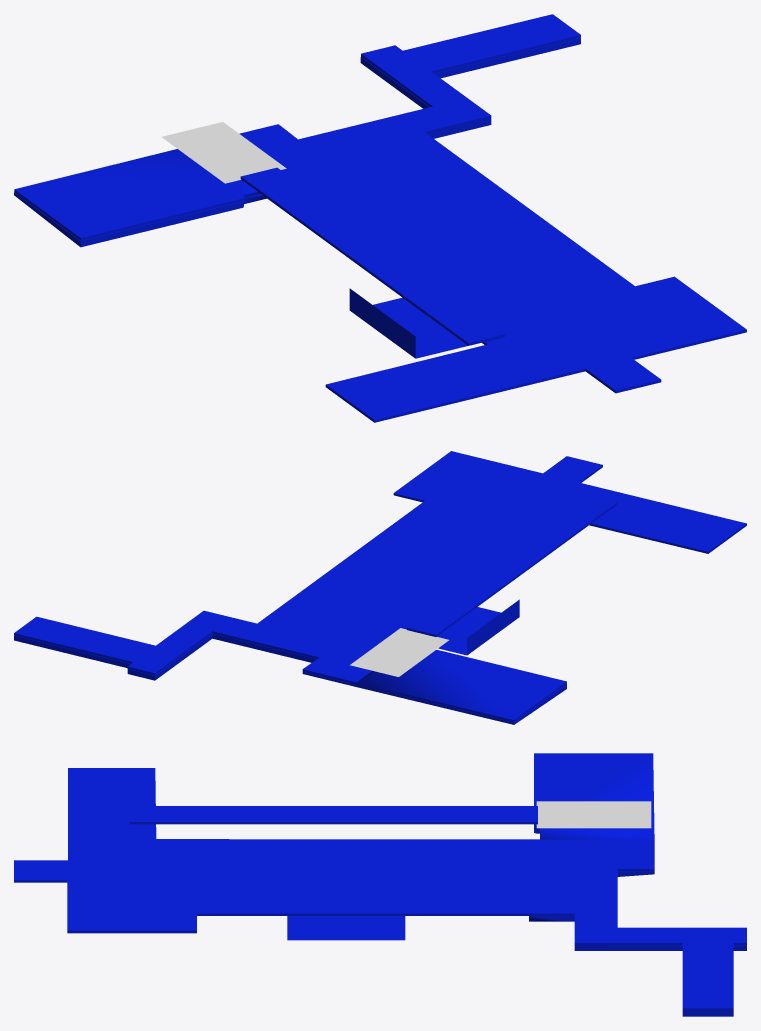
The model's file is Runko_Katto_Finalized.fbx.
The picture shows the model from 3 angles, top to bottom: view 1: azimuth 30°, elevation 25°; view 2: azimuth 150°, elevation 25°; view 3: azimuth 270°, elevation 25°; orthographic projection. The views are drawn at different scales.
Visible parts, largest first — view 1: Kattopala; view 2: Kattopala; view 3: Kattopala.
Part boxes in pixels (left/top/right/bottom): Kattopala: left=14, top=14, right=746, bottom=422; Kattopala: left=14, top=451, right=746, bottom=724; Kattopala: left=14, top=753, right=746, bottom=1016.
Size of the model in its own units: 4491 by 650 by 5453.
